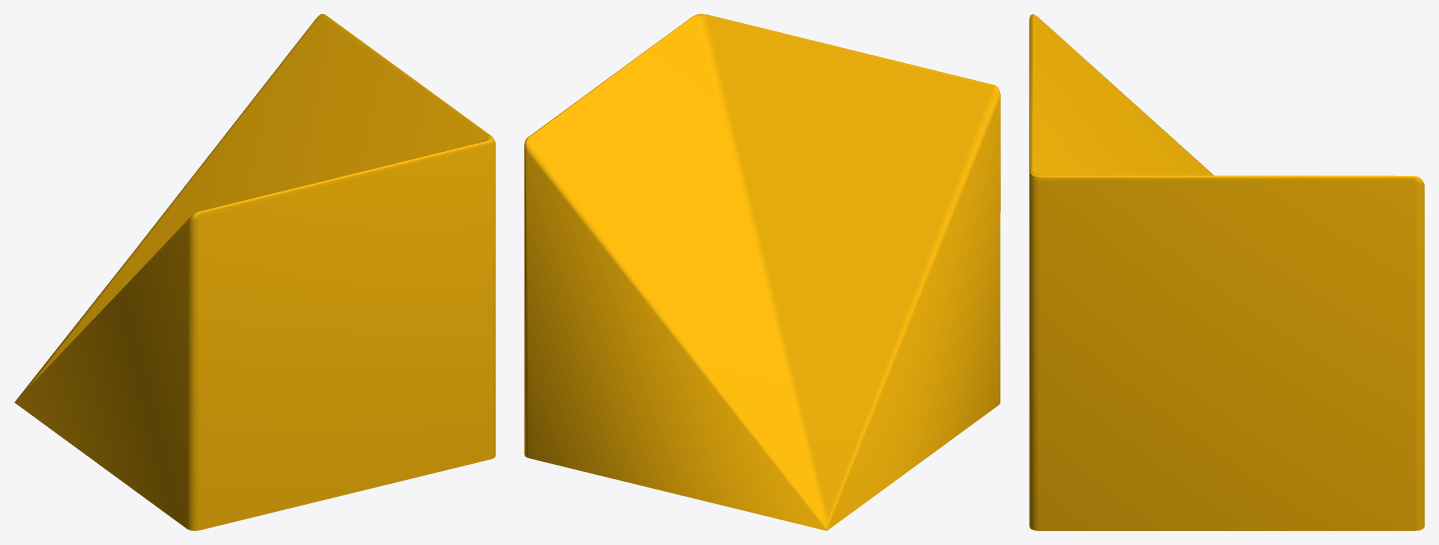
File: Lowered_Corner.fbx
3 views of the same model, side by side, from view 1: azimuth 30°, elevation 25°; view 2: azimuth 150°, elevation 25°; view 3: azimuth 270°, elevation 25° (orthographic). The views are drawn at different scales.
Parts seen in each view (by area): view 1: Lowered_Corner; view 2: Lowered_Corner; view 3: Lowered_Corner.
Boxes of the visible parts, left/top/right/bottom form: Lowered_Corner: left=14, top=14, right=495, bottom=530; Lowered_Corner: left=524, top=14, right=1000, bottom=530; Lowered_Corner: left=1029, top=14, right=1424, bottom=530.
Bounding box in the file's own units: 1 × 0.9889 × 1.
